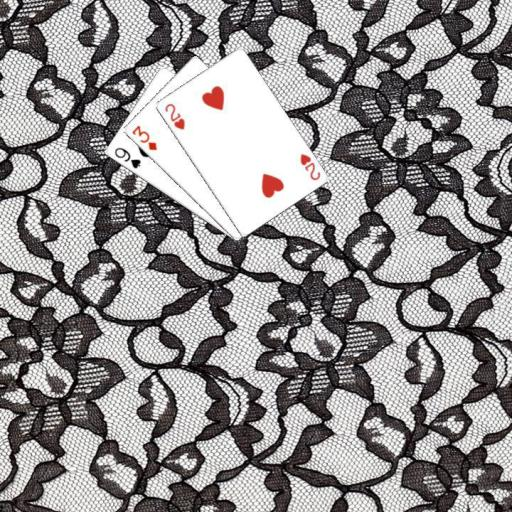2H: (162, 100, 187, 132), (297, 150, 322, 182)
3D: (128, 122, 159, 152)
9S: (111, 144, 142, 170)
